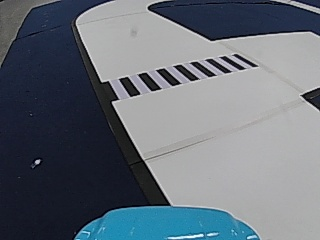CrossWalk: (108, 53, 251, 97)
